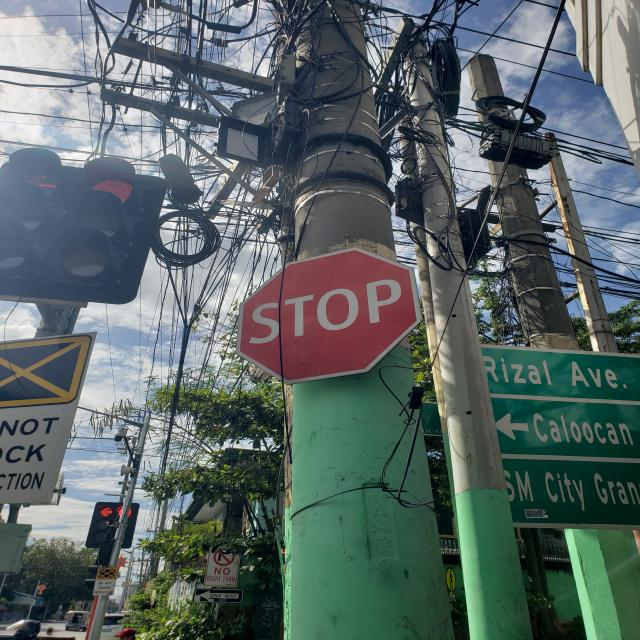stop-sign: (236, 247, 423, 385)
